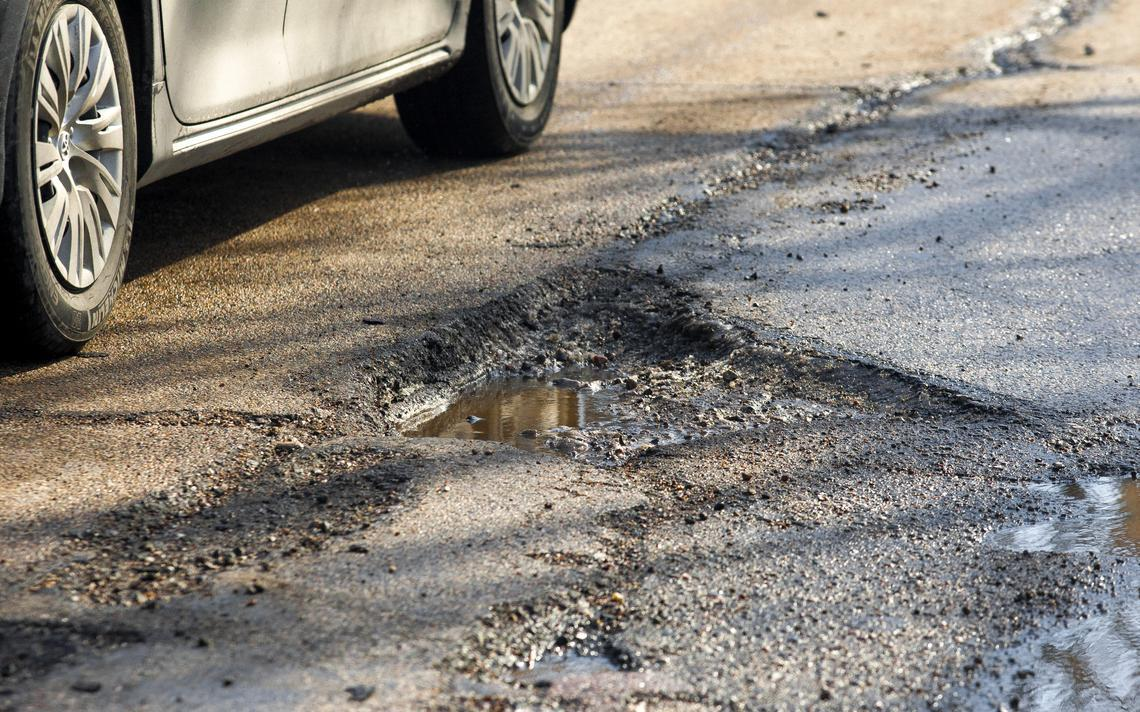Pothole: (287, 231, 1066, 480)
